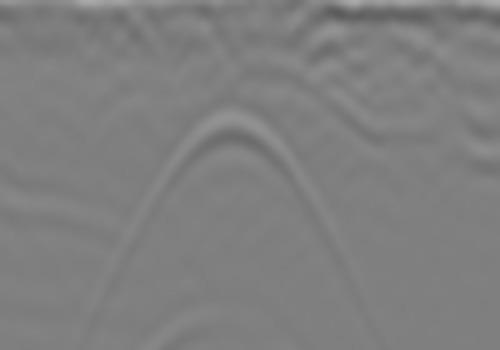hyperbola: (139, 101, 323, 232)
